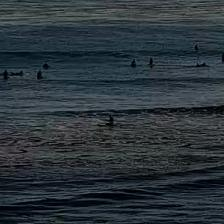surfer: (10, 70, 23, 76), (195, 62, 207, 67), (37, 71, 43, 79), (3, 69, 8, 78), (43, 62, 50, 68), (130, 60, 136, 67), (149, 57, 153, 65), (109, 115, 113, 122), (195, 44, 198, 50), (222, 53, 223, 61)
